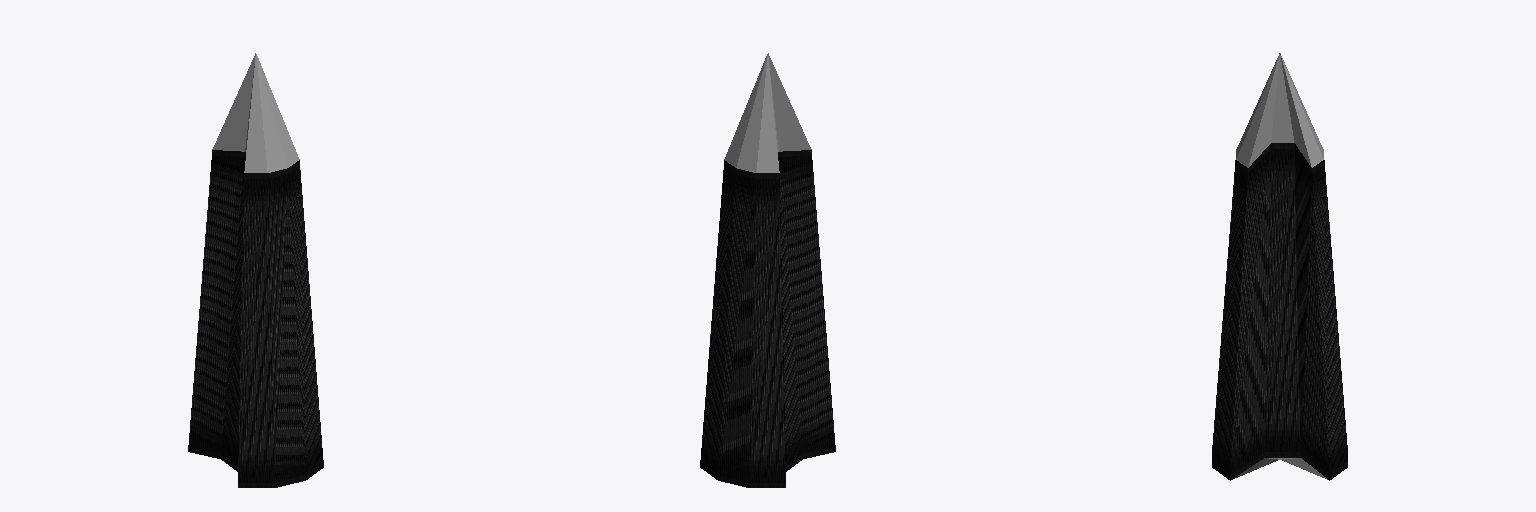
3 views of the same model, side by side, from view 1: azimuth 30°, elevation 25°; view 2: azimuth 150°, elevation 25°; view 3: azimuth 270°, elevation 25° (orthographic).
Size of the model in its own units: 1.41 by 6.38 by 1.93.
Materials: 3 (1 with a texture image).